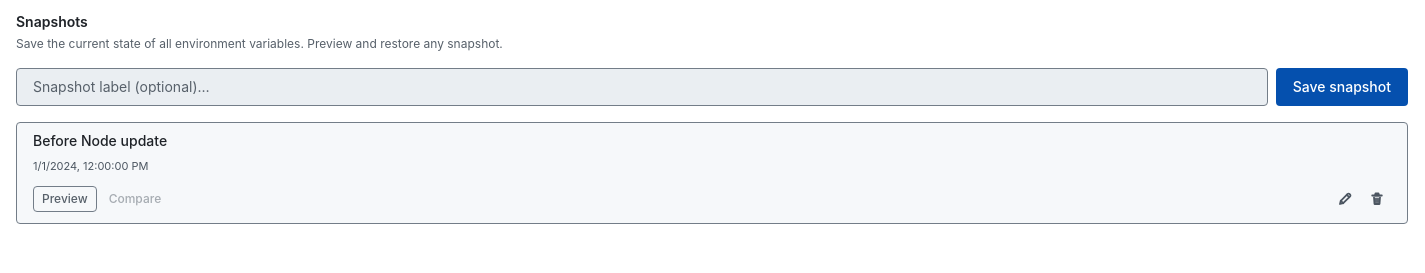
Test: SnapshotPanel › renames a snapshot inline and updates the displayed label
Expected: the text "Before Node update" is shown, left=33, top=132, right=167, bottom=149
Click the button named "Rename snapshot" at (1345,199), box left=1331, top=185, right=1359, bottom=213
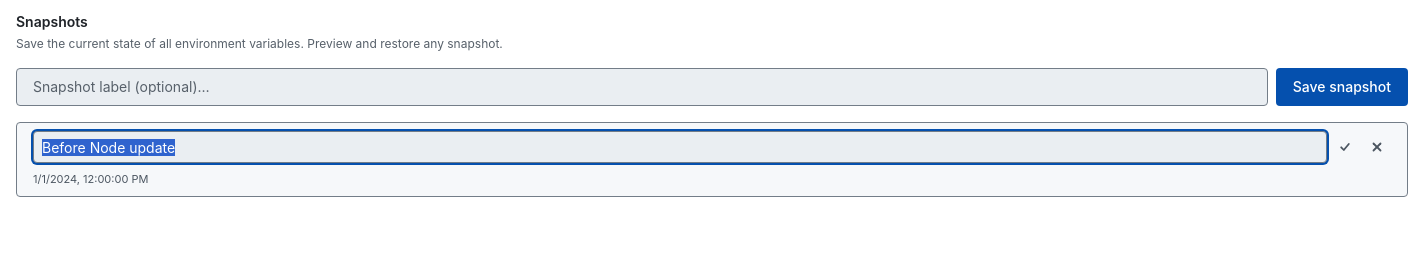
Replace the text in the field named "Snapshot name" with "After Node update" at (680,147), box left=33, top=131, right=1327, bottom=163
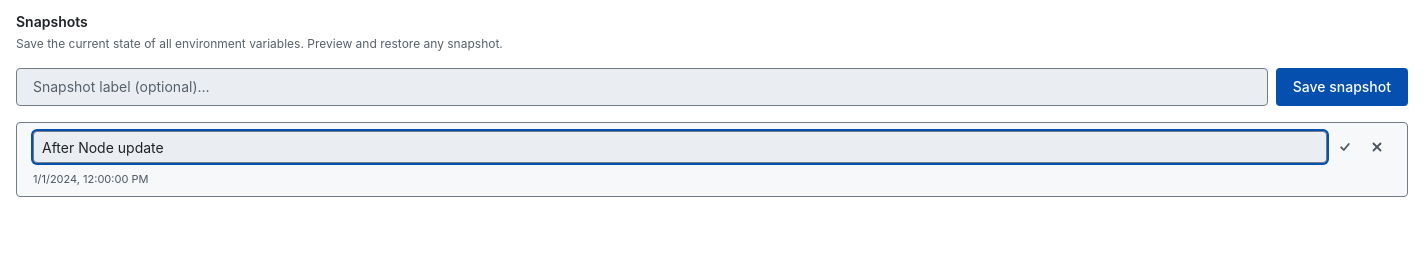
Click the button named "Save snapshot name" at (1345,147), box left=1331, top=133, right=1359, bottom=161
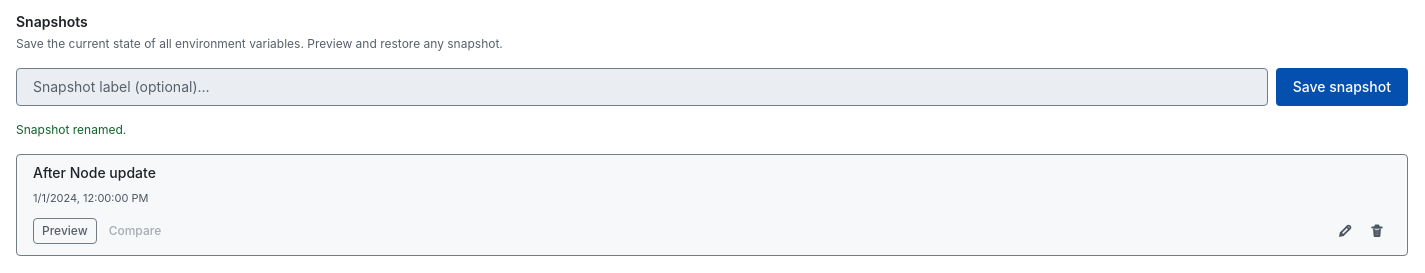
Now the text "After Node update" is shown, box left=33, top=164, right=156, bottom=181
Now the text "Snapshot renamed." is shown, box left=16, top=122, right=126, bottom=137
